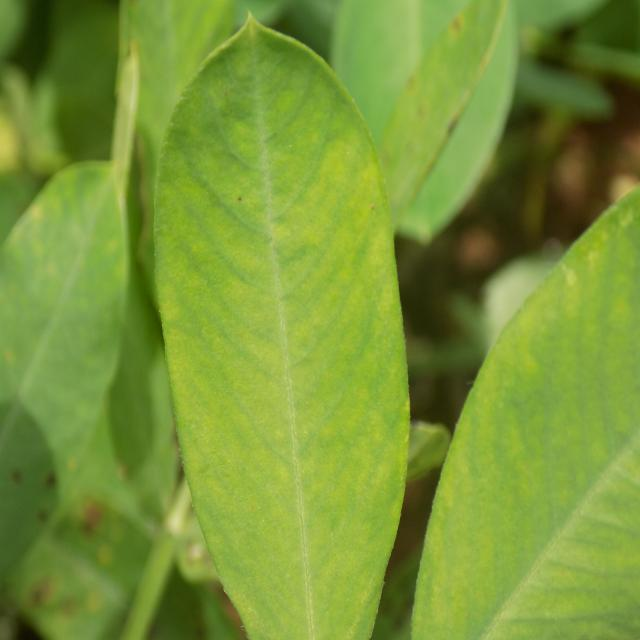Ground nut_healthy: (156, 15, 412, 640)
